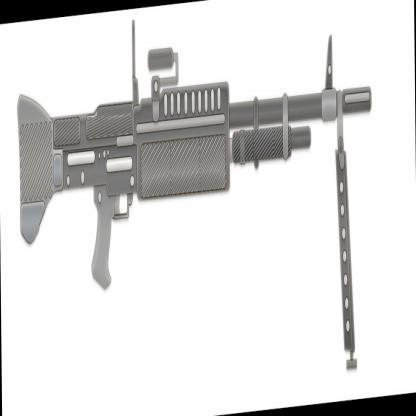rifle: (9, 13, 379, 306)
